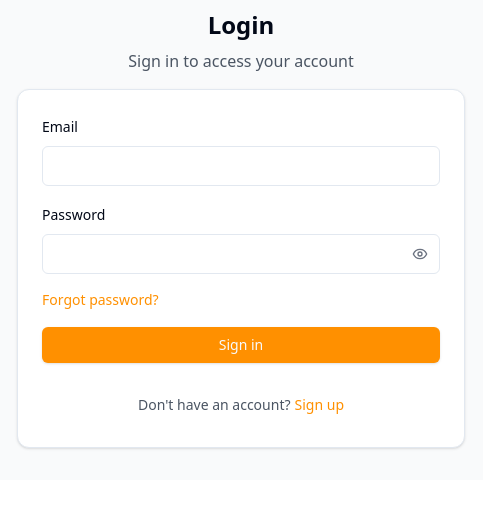
Test case: Login Page › shows error on server error
In the field with id "email": (241, 166) x1=42 y1=146 x2=440 y2=186, type "test@example.com"
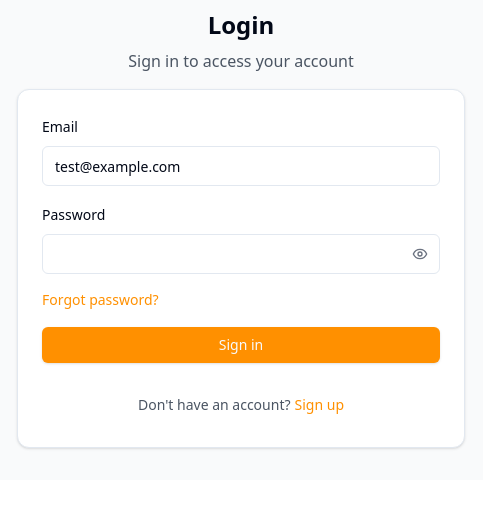
In the password field labelled "Password": (241, 254) x1=42 y1=234 x2=440 y2=274, type "password123"
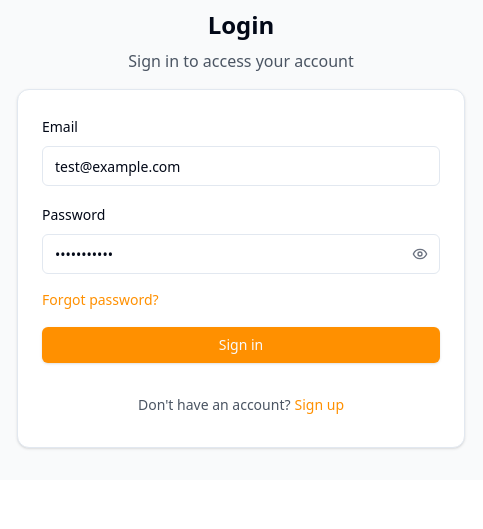
Click the button with id "sign-in-btn": (241, 345) x1=42 y1=327 x2=440 y2=363
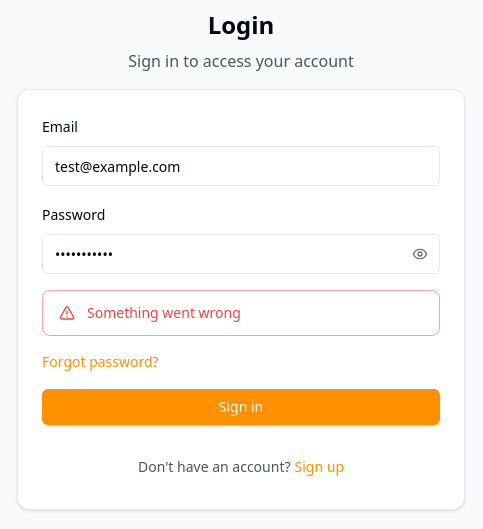
Expected: the text with id "login-error-message" reads "Something went wrong", x1=87 y1=303 x2=241 y2=322
